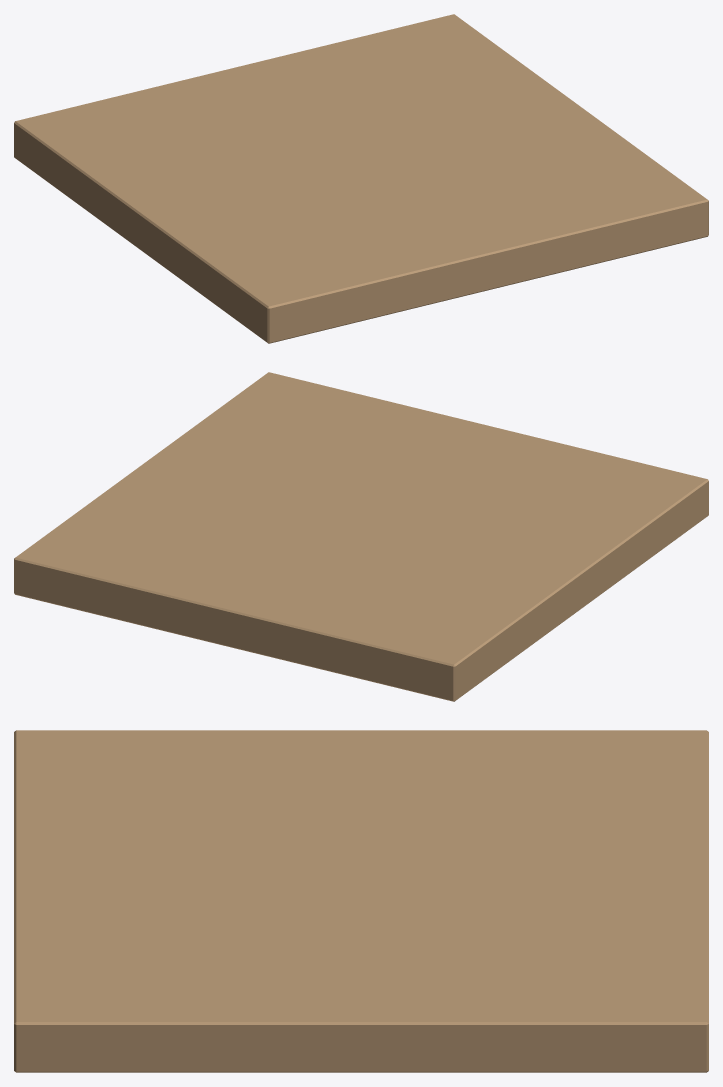
The model's file is lid.glb.
3 views of the same model, one above another, from view 1: azimuth 30°, elevation 25°; view 2: azimuth 150°, elevation 25°; view 3: azimuth 270°, elevation 25° (orthographic). The views are drawn at different scales.
Visible parts, largest first — view 1: lid; view 2: lid; view 3: lid.
Part boxes in pixels (x1,y1,x2,y2): lid: (14, 14, 708, 343); lid: (14, 372, 708, 701); lid: (14, 730, 708, 1072).
Bounding box in the file's own units: 0.62 × 0.05 × 0.62.
